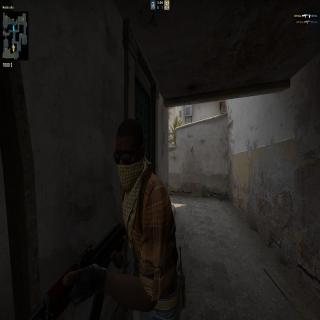T-Head: (112, 114, 150, 198)
